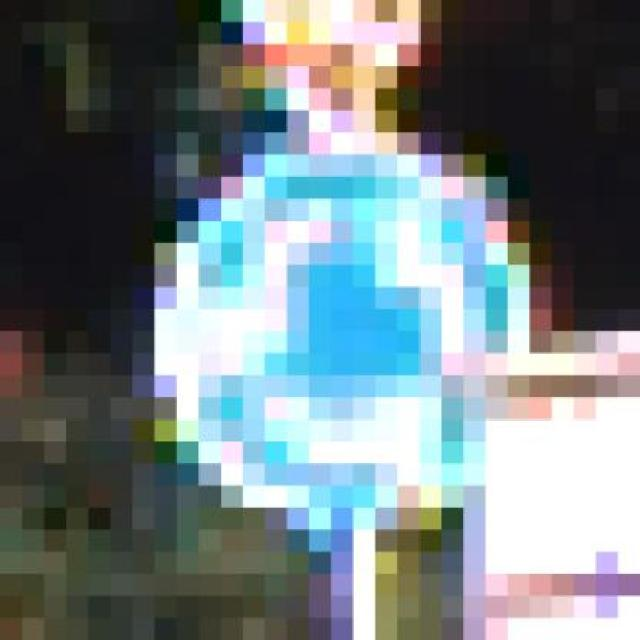Round-About: (132, 111, 552, 574)
